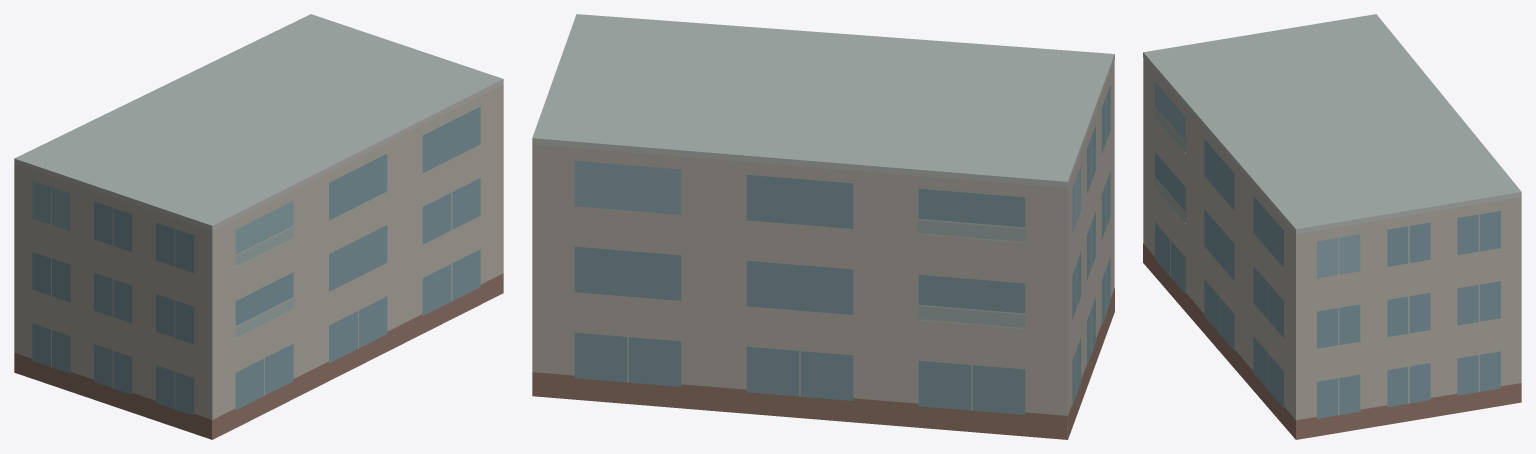
The model's file is survey-upis-32837831.glb.
3 views of the same model, side by side, from view 1: azimuth 30°, elevation 25°; view 2: azimuth 150°, elevation 25°; view 3: azimuth 270°, elevation 25° (orthographic). The views are drawn at different scales.
Visible parts, largest first — view 1: survey-upis-32837831.tmp; view 2: survey-upis-32837831.tmp; view 3: survey-upis-32837831.tmp.
Boxes of the visible parts, bbox=[...] form: survey-upis-32837831.tmp: bbox=[14, 14, 503, 439]; survey-upis-32837831.tmp: bbox=[532, 14, 1114, 439]; survey-upis-32837831.tmp: bbox=[1143, 14, 1521, 439].
Bounding box in the file's own units: 22.38 × 10.2 × 16.63.
